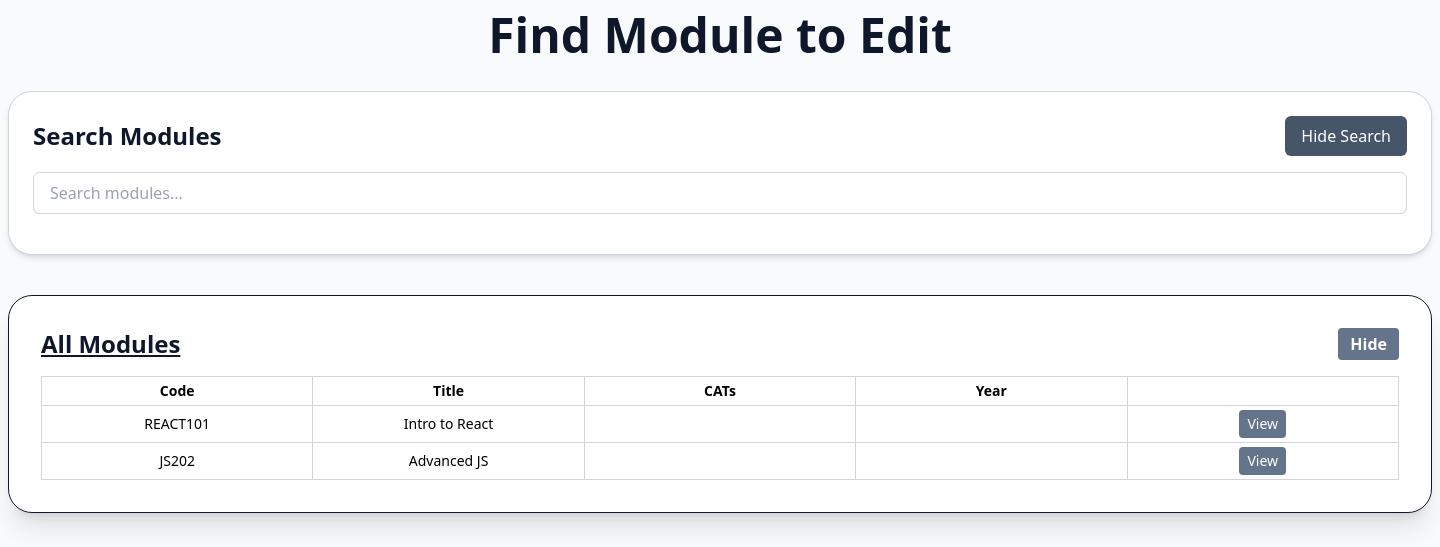
Scenario: EditModules › displays fallback message when no modules match search
The width and height of the screenshot is (1440, 547).
Step 1. Type "nonexistent" into the field with placeholder "Search modules..." → (720, 193), box [33, 172, 1407, 214]
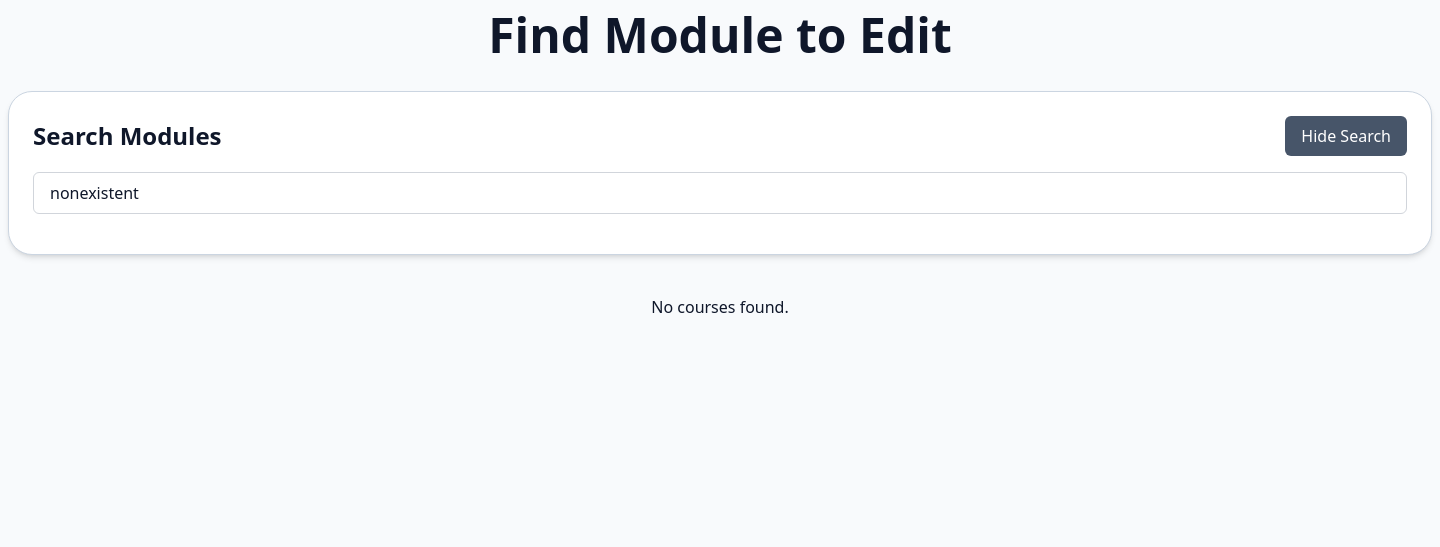
expect the text "No courses found." is shown: met, box [651, 296, 789, 318]
